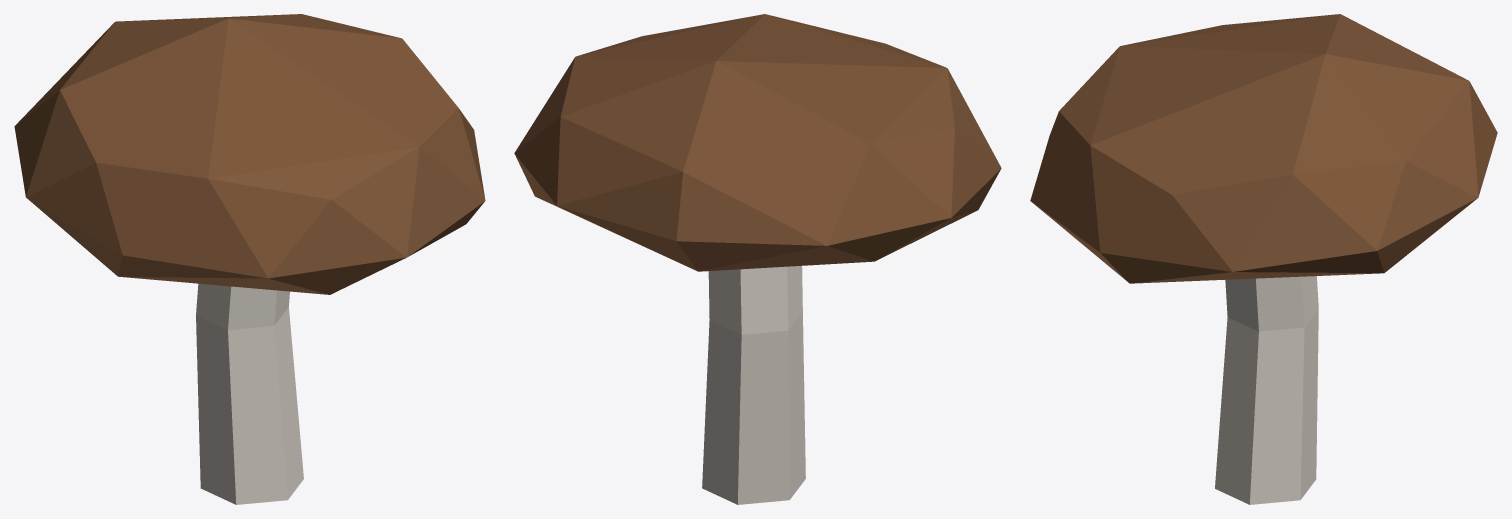
Rendered from Mushroom.fbx.
3 renders of one model, left to right at view 1: azimuth 30°, elevation 25°; view 2: azimuth 150°, elevation 25°; view 3: azimuth 270°, elevation 25°, orthographic. The views are drawn at different scales.
Parts seen in each view (by area): view 1: Mushroom; view 2: Mushroom; view 3: Mushroom.
Boxes of the visible parts, x1=… form: Mushroom: x1=14, y1=14, x2=485, y2=504; Mushroom: x1=514, y1=14, x2=1001, y2=504; Mushroom: x1=1030, y1=14, x2=1497, y2=504.
Size of the model in its own units: 27.33 by 27.67 by 27.05.
